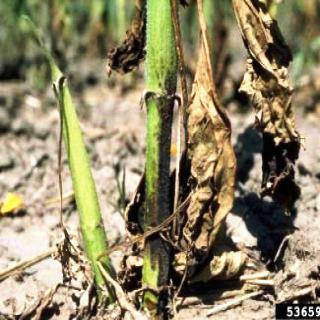wilt: (242, 3, 310, 219), (190, 15, 237, 267), (69, 106, 104, 320)
